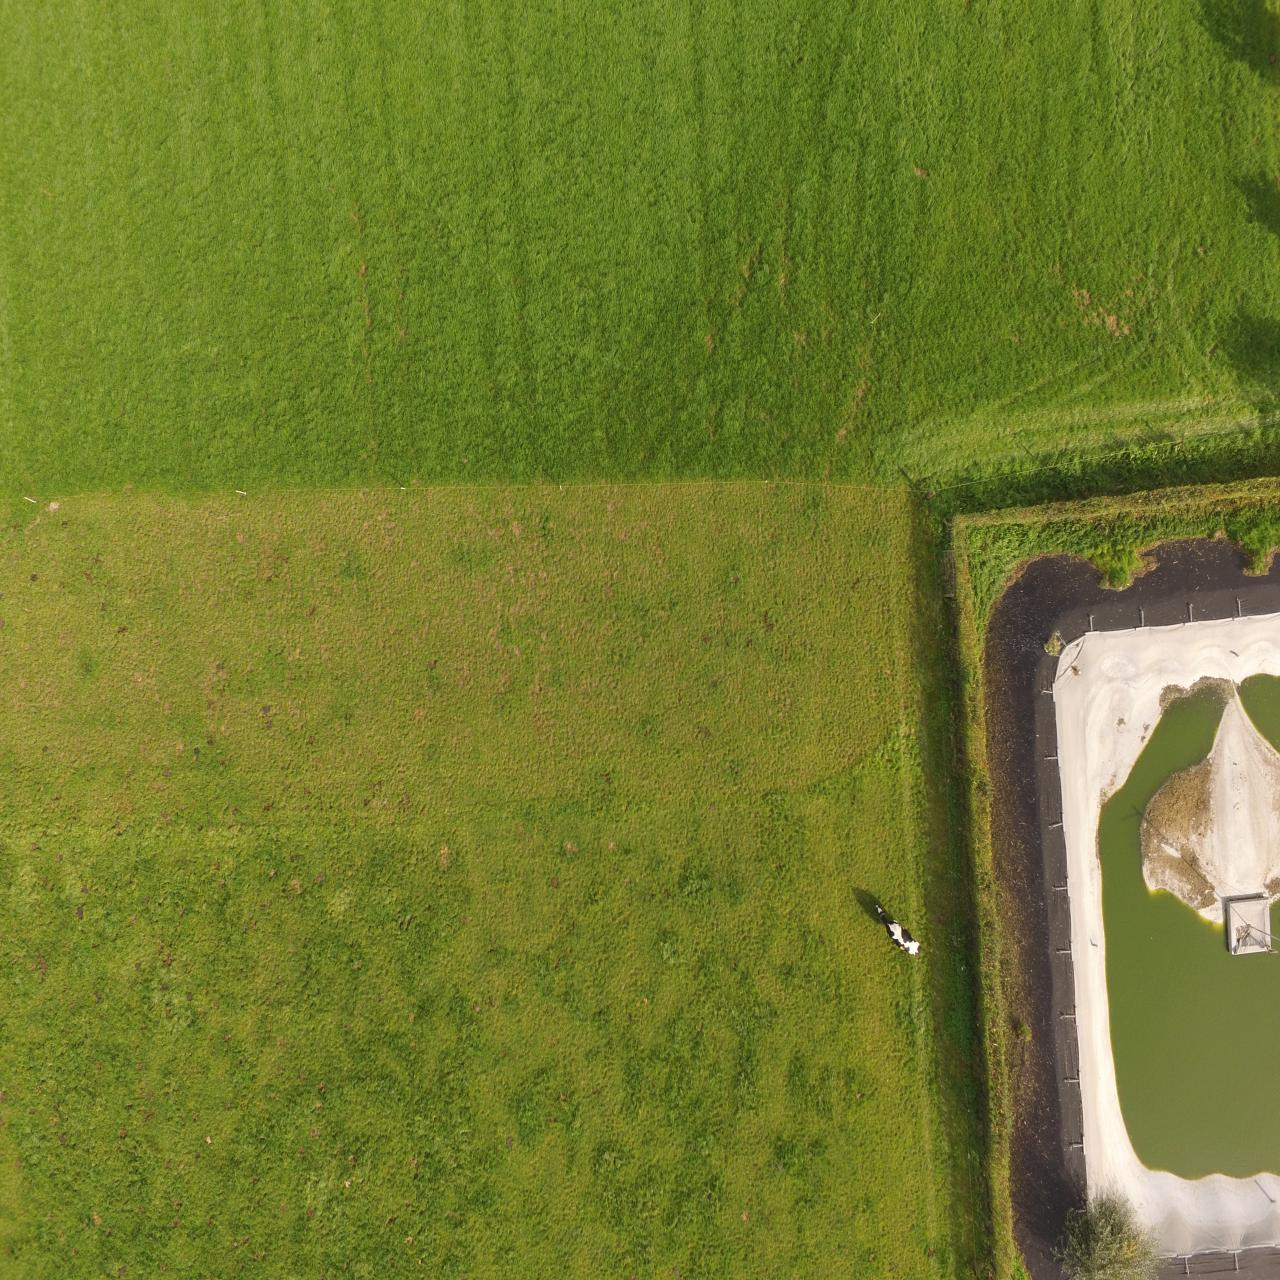cow: (873, 903, 920, 958)
